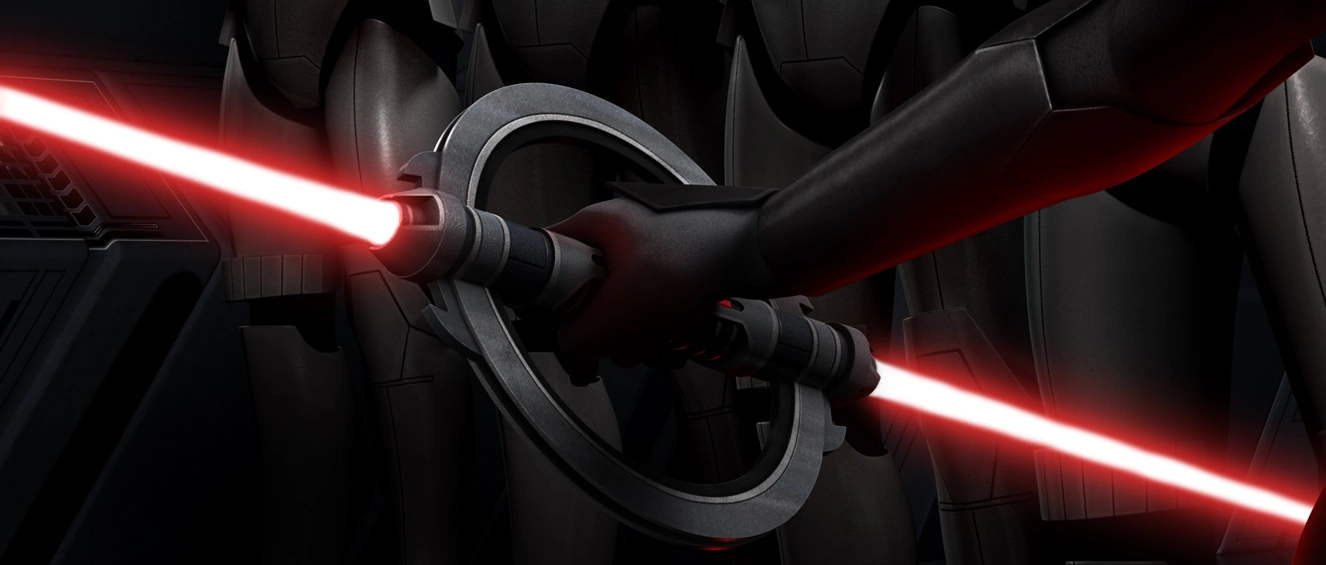cats: (1, 51, 1326, 546)
